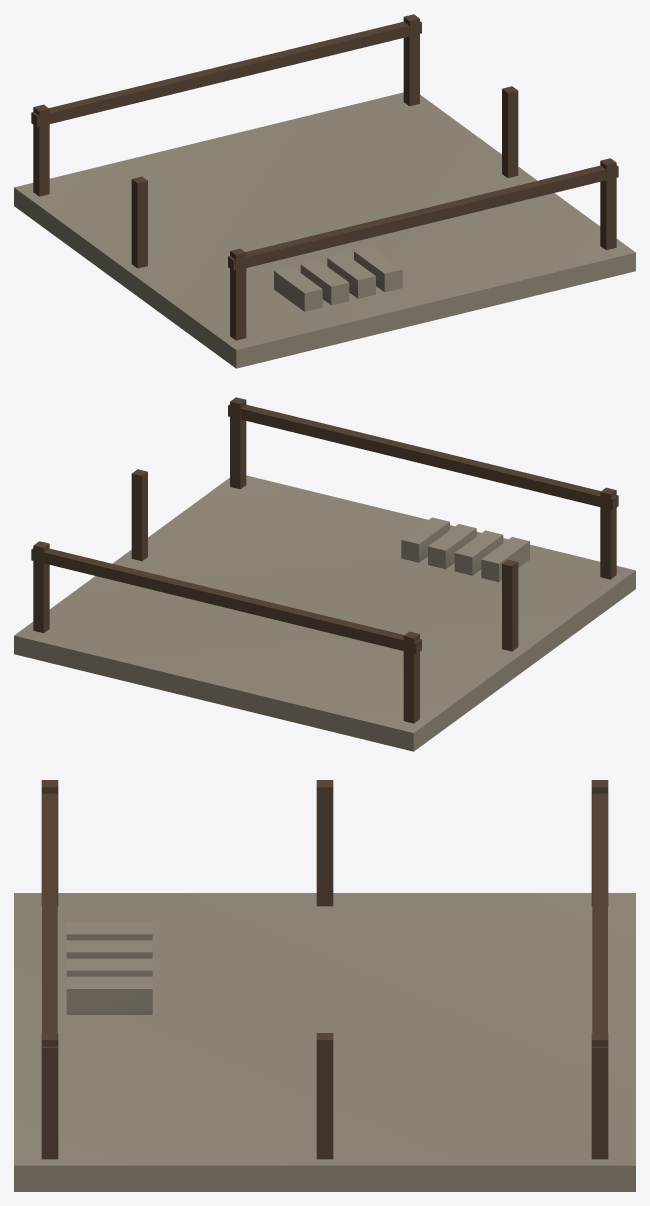
Rendered from worksite-0.glb.
3 views of the same model, one above another, from view 1: azimuth 30°, elevation 25°; view 2: azimuth 150°, elevation 25°; view 3: azimuth 270°, elevation 25° (orthographic). The views are drawn at different scales.
Visible parts, largest first — view 1: Construction 0 0, Construction 0 3; view 2: Construction 0 0, Construction 0 3; view 3: Construction 0 0, Construction 0 3.
Part boxes in pixels (left/top/right/bottom): Construction 0 0: left=14, top=92, right=635, bottom=368; Construction 0 3: left=31, top=14, right=618, bottom=340; Construction 0 0: left=14, top=475, right=635, bottom=751; Construction 0 3: left=31, top=397, right=618, bottom=723; Construction 0 0: left=14, top=893, right=635, bottom=1191; Construction 0 3: left=41, top=780, right=608, bottom=1159.
Size of the model in its own units: 2.7 by 0.67 by 2.6.
